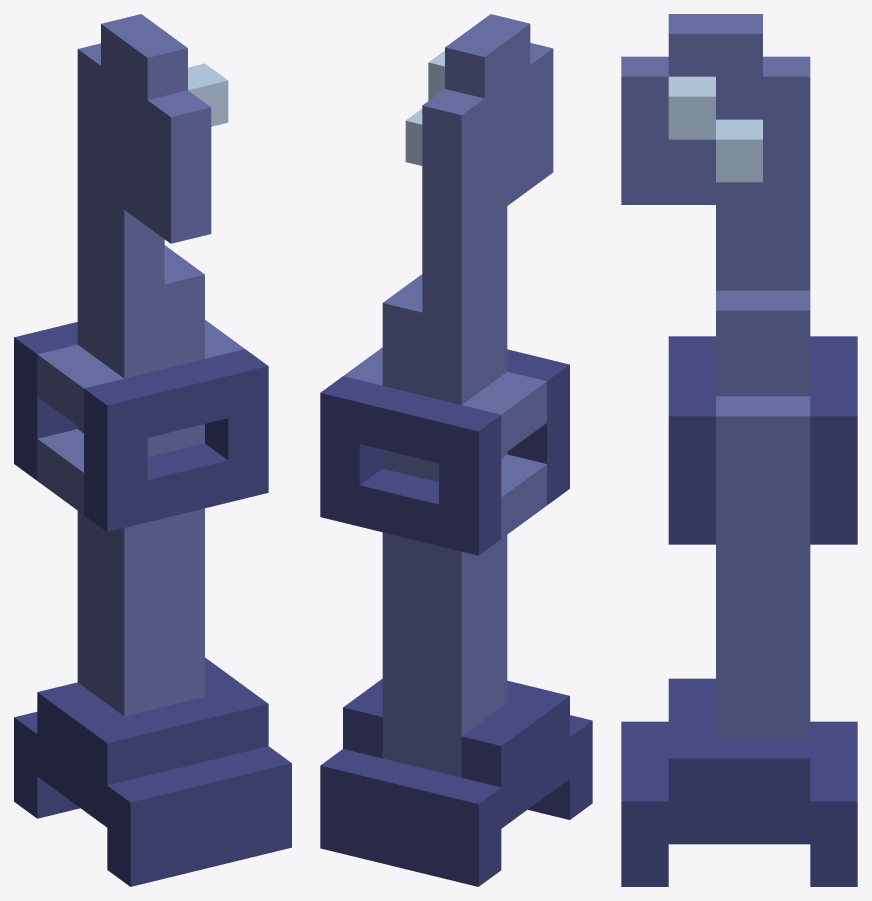
File: arm.fbx
The picture shows the model from 3 angles, left to right: view 1: azimuth 30°, elevation 25°; view 2: azimuth 150°, elevation 25°; view 3: azimuth 270°, elevation 25°; orthographic projection. The views are drawn at different scales.
Visible parts, largest first — view 1: Default; view 2: Default; view 3: Default.
Boxes of the visible parts, x1,y1,x2,y2 form: Default: (14,14,291,886); Default: (320,14,592,886); Default: (621,14,857,886).
Size of the model in its own units: 4 by 19 by 5.
Materials: 1 (1 with a texture image).
